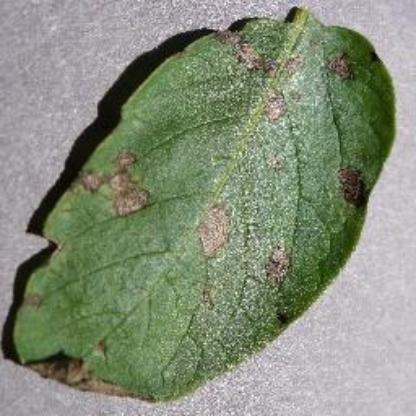Early-Blight: (8, 10, 400, 402)
